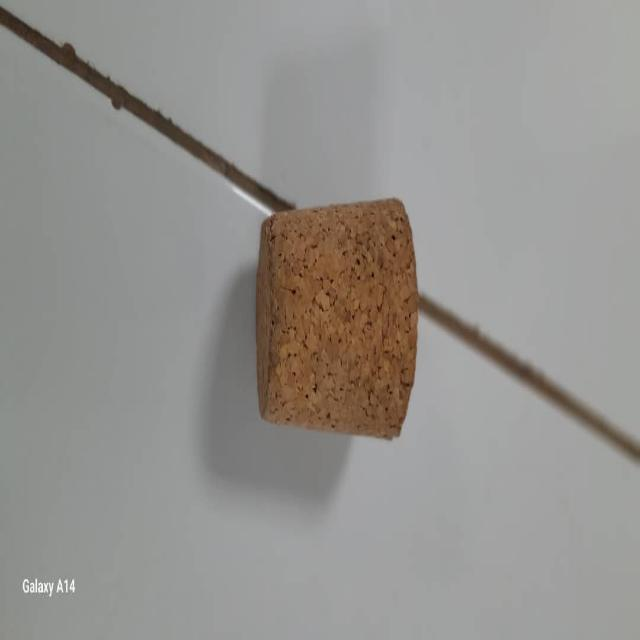Stopper: (256, 199, 423, 446)
